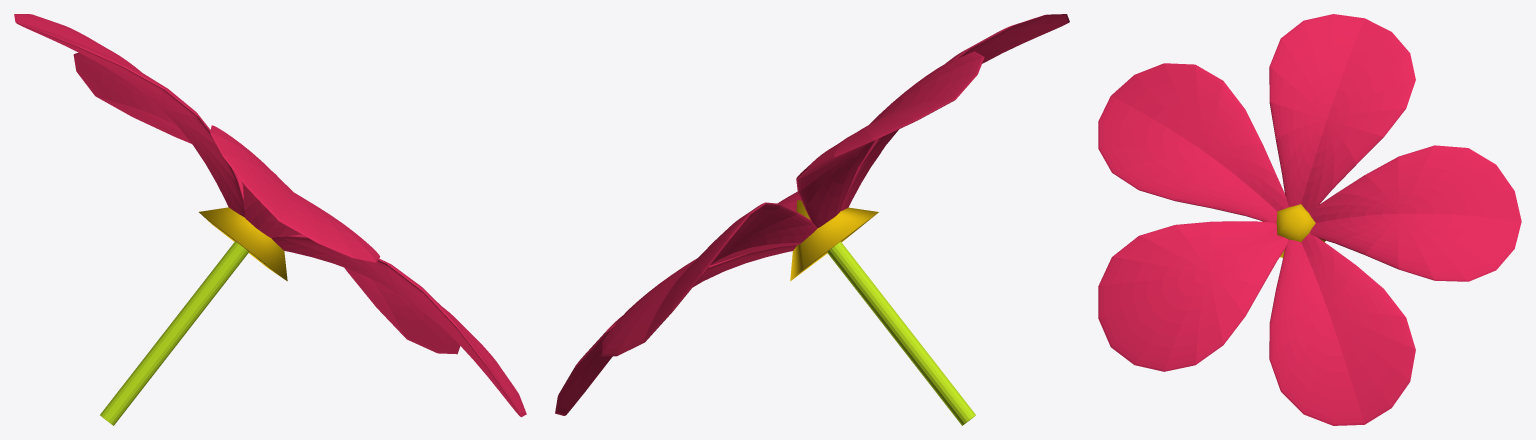
The model's file is flower.glb.
The picture shows the model from 3 angles, left to right: view 1: azimuth 30°, elevation 25°; view 2: azimuth 150°, elevation 25°; view 3: azimuth 270°, elevation 25°; orthographic projection. The views are drawn at different scales.
Visible parts, largest first — view 1: Petal_4, Petal_5, Petal_3, Staminal_Column, Petal_1, Petal_2, Calyx; view 2: Petal_5, Petal_1, Staminal_Column, Petal_4, Petal_2, Calyx; view 3: Petal_2, Petal_3, Petal_1, Petal_4, Petal_5, Calyx.
Part boxes in pixels (box(x1,y1,x2,y2)): Petal_4: box(210, 125, 379, 262); Petal_5: box(14, 14, 244, 217); Petal_3: box(271, 235, 526, 417); Staminal_Column: box(100, 241, 248, 425); Petal_1: box(73, 52, 243, 198); Petal_2: box(293, 234, 460, 354); Calyx: box(199, 207, 287, 281); Petal_5: box(796, 51, 984, 227); Petal_1: box(601, 202, 817, 356); Staminal_Column: box(827, 241, 975, 425); Petal_4: box(840, 14, 1069, 211); Petal_2: box(555, 245, 796, 415); Calyx: box(790, 200, 878, 281); Petal_2: box(1269, 233, 1415, 425); Petal_3: box(1098, 221, 1288, 371); Petal_1: box(1309, 145, 1521, 281); Petal_4: box(1098, 63, 1288, 223); Petal_5: box(1269, 14, 1415, 213); Calyx: box(1262, 204, 1325, 257).
Bounding box in the file's own units: 7.73 × 7.78 × 10.56.
